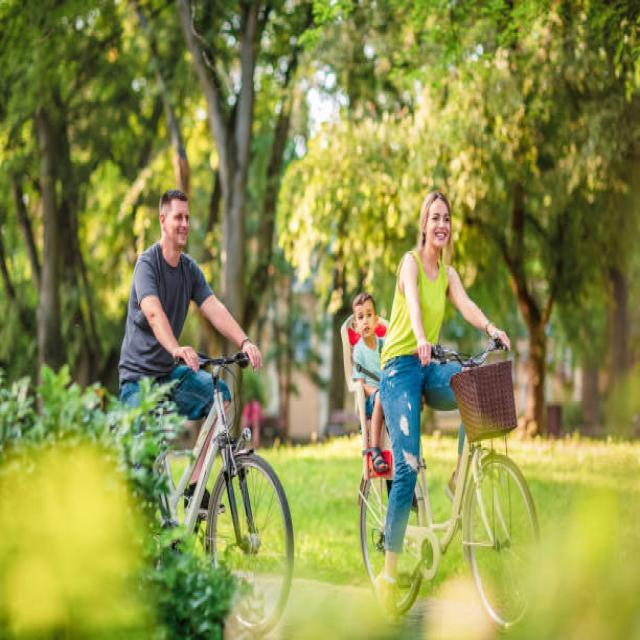bicycle: (341, 193, 538, 627), (121, 191, 291, 631)
